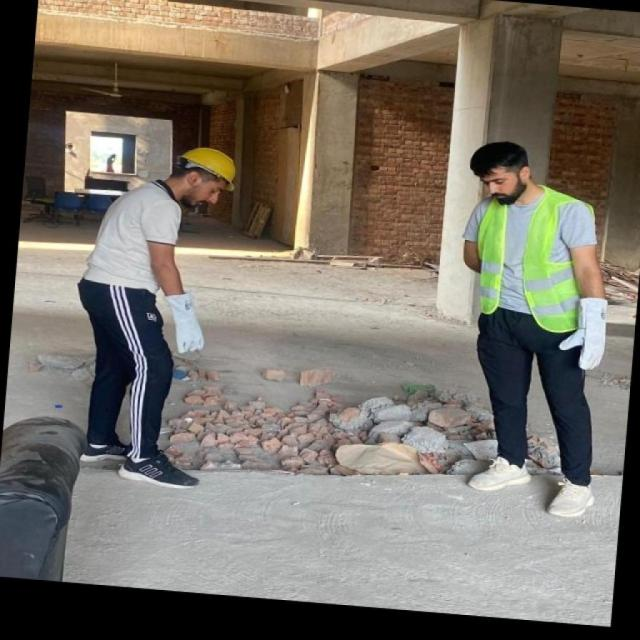Gloves-Detection: (158, 289, 219, 359), (562, 297, 608, 374)
